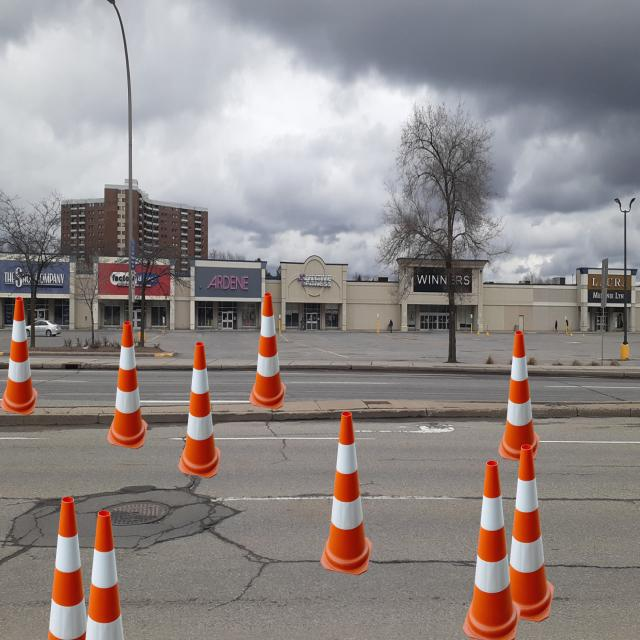large_orange_cone: (462, 460, 521, 640), (498, 444, 554, 622), (35, 496, 99, 640), (320, 412, 373, 576), (71, 510, 136, 640), (178, 342, 221, 478), (498, 330, 540, 462), (106, 321, 148, 449), (0, 297, 38, 415), (249, 293, 286, 409)
